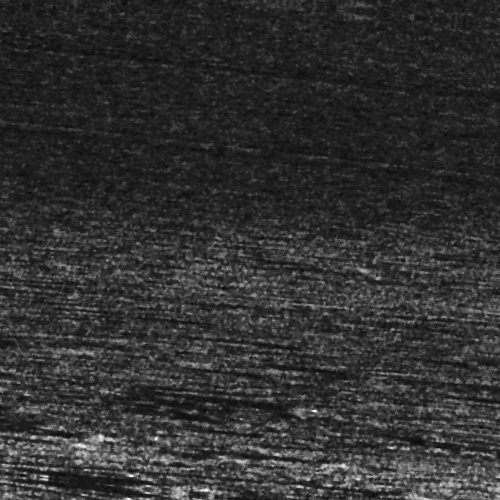object: (410, 464, 493, 485), (26, 359, 109, 372), (69, 446, 152, 455)
shadow: (335, 464, 452, 485), (0, 446, 110, 455), (0, 359, 67, 372)
